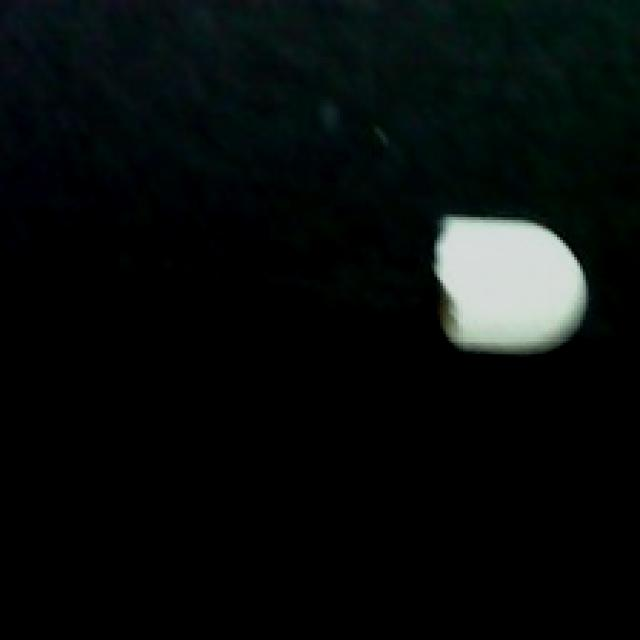defected: (426, 209, 594, 360)
